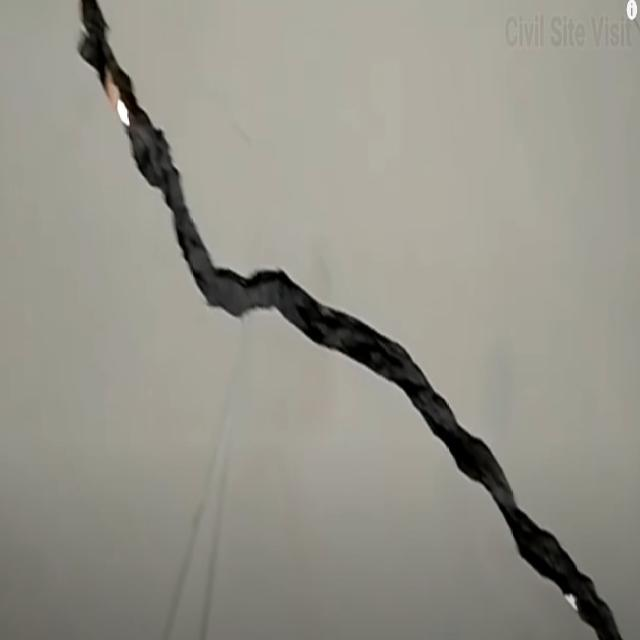Wall_Cracks: (66, 0, 626, 640)
